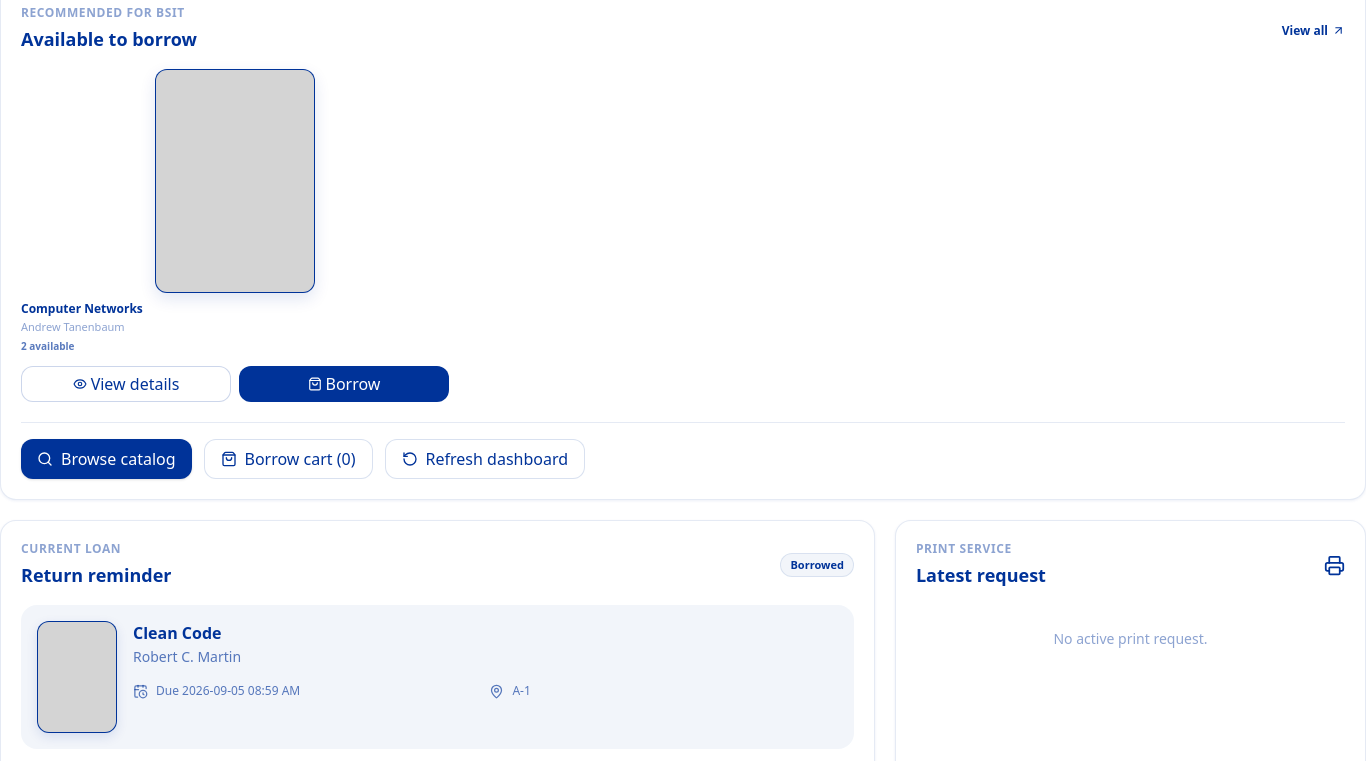
Test: live dashboards › places recommendations after the summary cards and adds a recommended book to the shared borrow cart
(page scrolled)
Check: the heading "Clean Code" is shown, box top-left (133, 622), bottom-right (222, 644)
Check: the button "View details" is shown, box top-left (21, 366), bottom-right (231, 402)
Click the button "Borrow".
click(344, 384)  # box top-left (239, 366), bottom-right (449, 402)
(page scrolled)
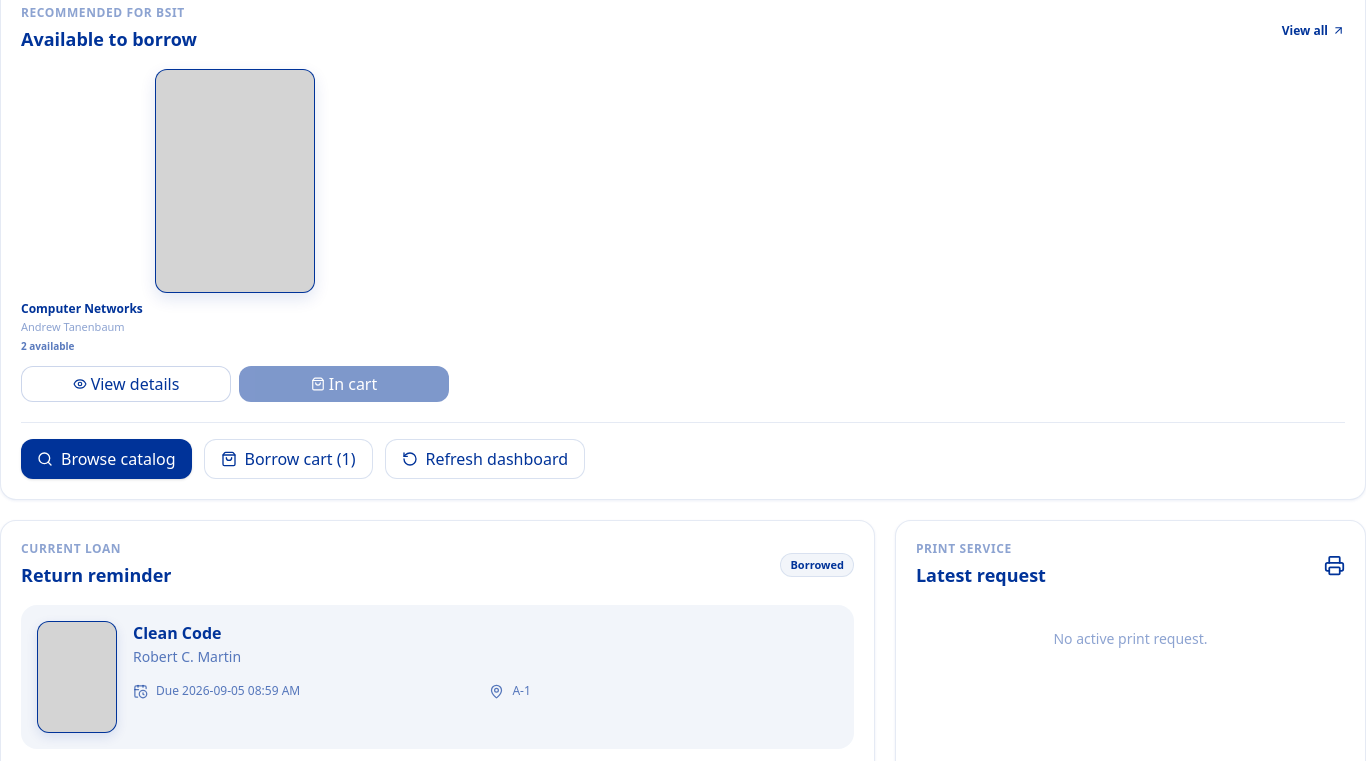
Check: the button "In cart" is shown, box top-left (239, 366), bottom-right (449, 402)
